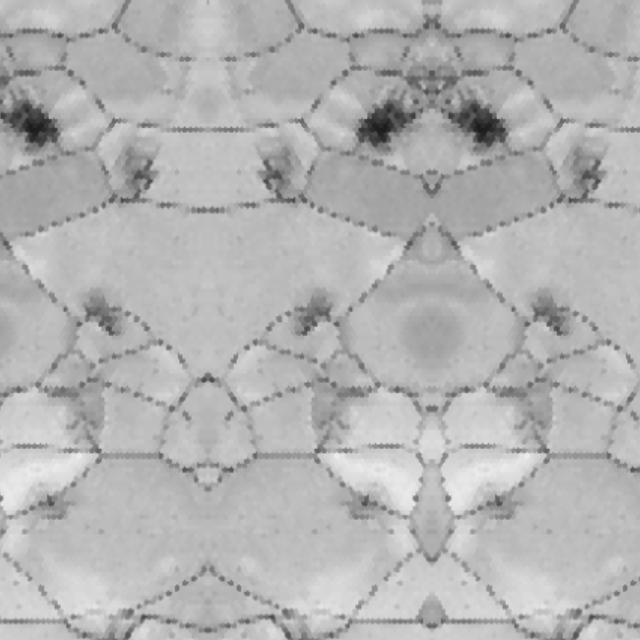good_void: (431, 63, 514, 160), (349, 63, 431, 160), (0, 65, 65, 160), (248, 145, 298, 203), (116, 145, 166, 203), (565, 145, 614, 203), (291, 286, 339, 342), (75, 286, 123, 342), (524, 286, 572, 342), (333, 479, 384, 526), (30, 479, 81, 526), (479, 479, 529, 526), (222, 409, 234, 423), (180, 409, 192, 423), (629, 409, 640, 423), (385, 527, 394, 538), (20, 527, 29, 538), (469, 527, 478, 538), (622, 168, 629, 177), (234, 168, 240, 177), (174, 168, 180, 177)
